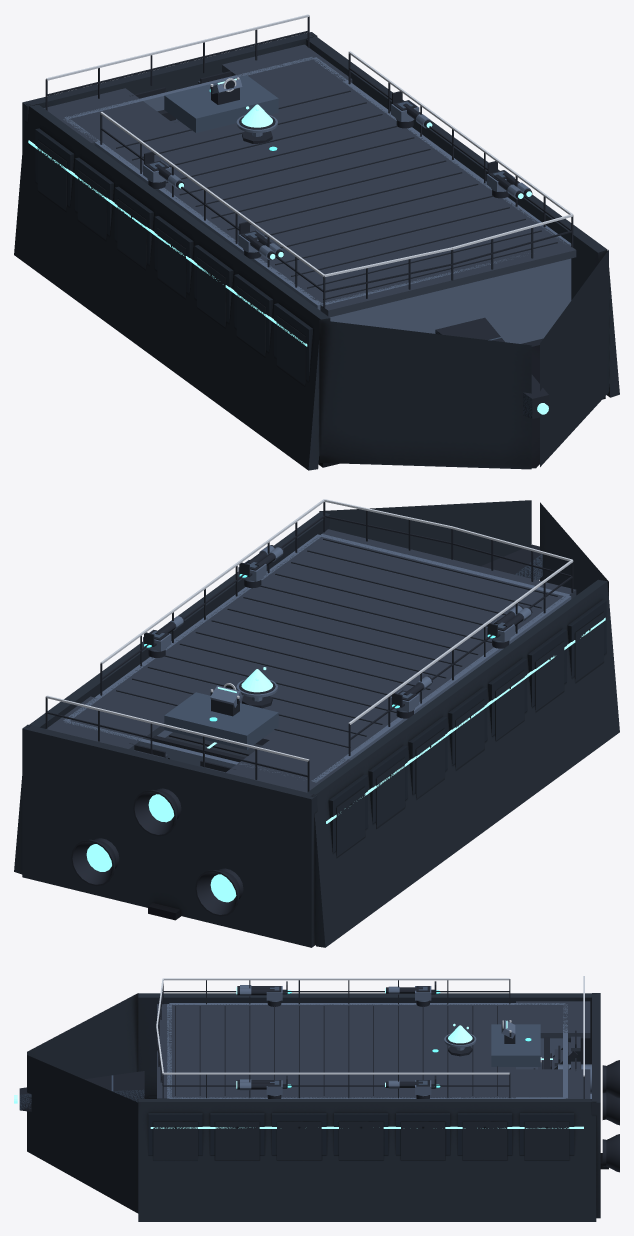
File: nave_fragata.fbx
3 views of the same model, one above another, from view 1: azimuth 30°, elevation 25°; view 2: azimuth 150°, elevation 25°; view 3: azimuth 270°, elevation 25° (orthographic). The views are drawn at different scales.
Visible parts, largest first — view 1: Fragata_Casco, Fragata_Cubierta_Sup, Fragata_Cubierta_Inf_Paredes, Fragata_Timon, Fragata_Barandilla_04, Fragata_Barandilla_02, Fragata_Barandilla_01, Fragata_Barandilla_03, Fragata_Ariete, Fragata_Canon_01, Fragata_Canon_02, Fragata_Neon_01 (+3 smaller); view 2: Fragata_Casco, Fragata_Cubierta_Sup, Fragata_Cubierta_Inf_Paredes, Fragata_Timon, Fragata_Barandilla_04, Fragata_Barandilla_01, Fragata_Barandilla_02, Fragata_Barandilla_03, Fragata_Neon_02, Fragata_Motor_01, Fragata_Motor_03, Fragata_Motor_02 (+8 smaller); view 3: Fragata_Casco, Fragata_Cubierta_Sup, Fragata_Cubierta_Inf_Paredes, Fragata_Timon, Fragata_Barandilla_01, Fragata_Barandilla_02, Fragata_Ariete, Fragata_Motor_03, Fragata_Canon_02, Fragata_Canon_01, Fragata_Canon_04, Fragata_Canon_03 (+6 smaller).
Boxes of the visible parts, x1,y1,x2,y2 form: Fragata_Casco: [14, 32, 619, 470]; Fragata_Cubierta_Sup: [44, 44, 576, 317]; Fragata_Cubierta_Inf_Paredes: [63, 57, 571, 343]; Fragata_Timon: [164, 75, 278, 132]; Fragata_Barandilla_04: [45, 14, 309, 110]; Fragata_Barandilla_02: [100, 112, 325, 307]; Fragata_Barandilla_01: [348, 51, 573, 247]; Fragata_Barandilla_03: [324, 214, 572, 298]; Fragata_Ariete: [435, 317, 548, 418]; Fragata_Canon_01: [486, 161, 532, 199]; Fragata_Canon_02: [238, 221, 283, 259]; Fragata_Neon_01: [28, 122, 531, 346]; Fragata_Casco: [14, 500, 619, 947]; Fragata_Cubierta_Sup: [46, 529, 576, 792]; Fragata_Cubierta_Inf_Paredes: [63, 534, 571, 782]; Fragata_Timon: [164, 683, 278, 749]; Fragata_Barandilla_04: [45, 695, 309, 791]; Fragata_Barandilla_01: [100, 499, 325, 695]; Fragata_Barandilla_02: [348, 560, 573, 755]; Fragata_Barandilla_03: [324, 499, 572, 581]; Fragata_Neon_02: [86, 794, 236, 902]; Fragata_Motor_01: [71, 838, 119, 886]; Fragata_Motor_03: [133, 788, 181, 836]; Fragata_Motor_02: [195, 868, 243, 916]; Fragata_Casco: [27, 993, 608, 1221]; Fragata_Cubierta_Sup: [157, 1001, 590, 1098]; Fragata_Cubierta_Inf_Paredes: [167, 1003, 567, 1098]; Fragata_Timon: [491, 1020, 540, 1066]; Fragata_Barandilla_01: [162, 1072, 510, 1098]; Fragata_Barandilla_02: [162, 978, 510, 1004]; Fragata_Ariete: [19, 1071, 144, 1111]; Fragata_Motor_03: [558, 1060, 619, 1098]; Fragata_Canon_02: [237, 981, 287, 1006]; Fragata_Canon_01: [237, 1075, 287, 1098]; Fragata_Canon_04: [386, 981, 436, 1006]; Fragata_Canon_03: [386, 1075, 436, 1098].
Bounding box in the file's own units: 6.33 × 3.57 × 13.71.
14 materials, 2 textured.
